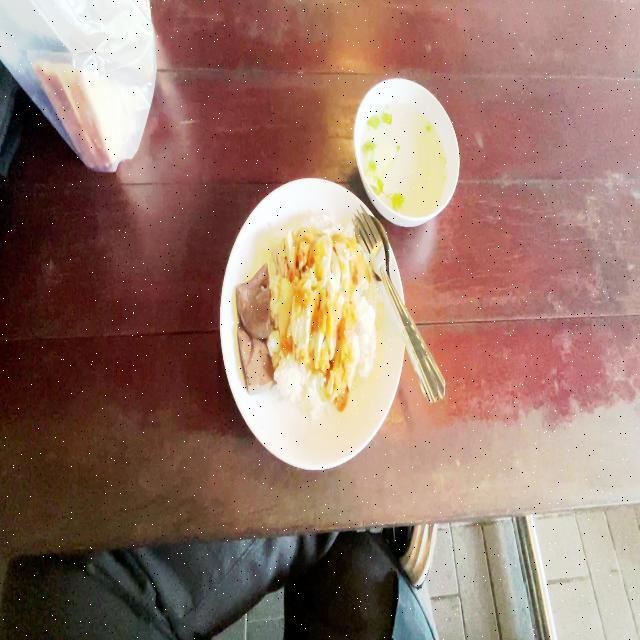boiled_chicken: (276, 283, 353, 377), (278, 224, 369, 289)
boiled_chicken_blood_jelly: (240, 263, 269, 340), (240, 329, 271, 386)
chicken_rice: (240, 220, 376, 416)
rice: (354, 293, 376, 381), (302, 372, 322, 409), (280, 360, 300, 395)
